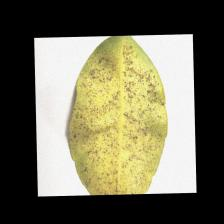canker: (95, 80, 152, 168)
